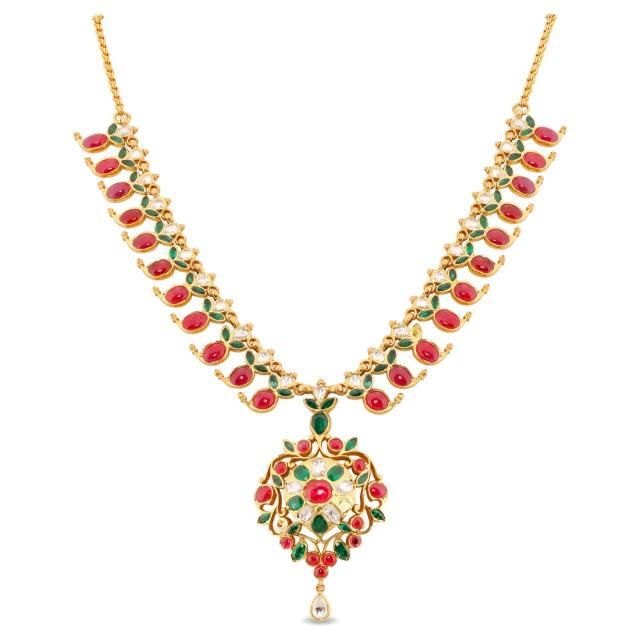missing gem: (412, 324, 422, 340), (277, 518, 287, 530)
